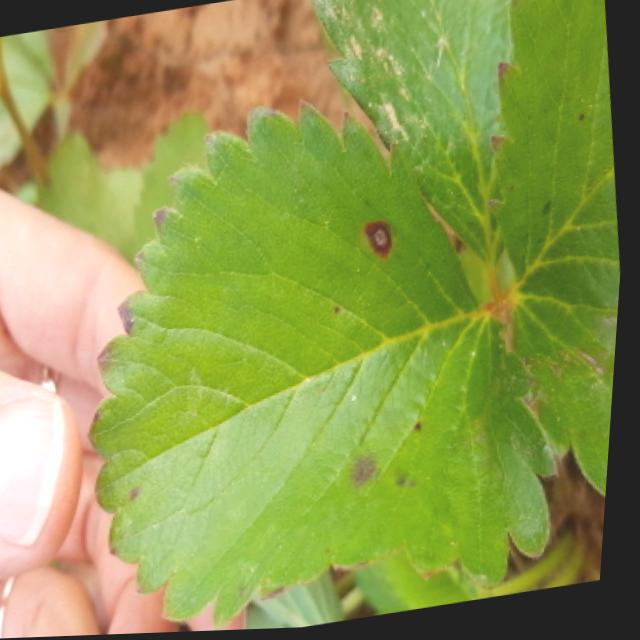Leaf Spot: (91, 97, 568, 628), (486, 0, 624, 505)
